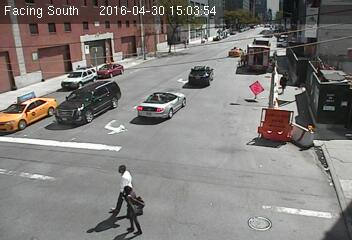neg: (210, 34, 231, 62), (185, 98, 205, 125), (180, 65, 192, 81), (100, 104, 109, 117)
pos: (103, 161, 143, 214), (114, 184, 151, 233), (277, 71, 291, 90)
